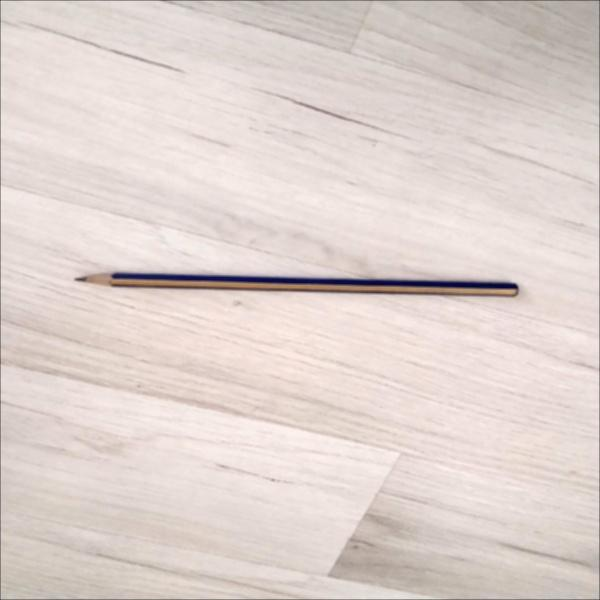pencil: (72, 271, 527, 302)
